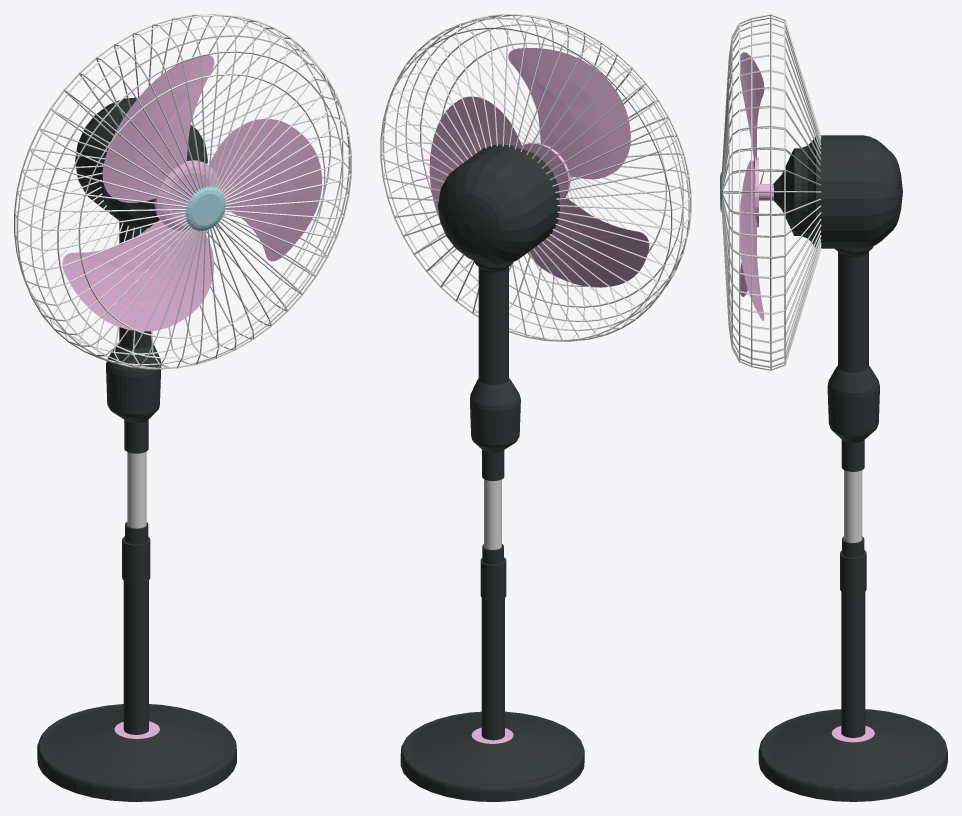
File: SM_fanV2.fbx
The picture shows the model from 3 angles, left to right: view 1: azimuth 30°, elevation 25°; view 2: azimuth 150°, elevation 25°; view 3: azimuth 270°, elevation 25°; orthographic projection. The views are drawn at different scales.
Parts seen in each view (by area): view 1: Mesh, Blades, Stem, Base; view 2: Stem, Mesh, Blades, Base; view 3: Stem, Base, Mesh, Blades.
Boxes of the visible parts, <box> form: Mesh: <box>14,14,351,369</box>; Blades: <box>62,55,322,331</box>; Stem: <box>75,97,207,734</box>; Base: <box>37,704,236,801</box>; Stem: <box>438,144,560,740</box>; Mesh: <box>380,14,691,341</box>; Blades: <box>429,48,649,287</box>; Base: <box>400,711,584,801</box>; Stem: <box>773,135,902,737</box>; Base: <box>758,709,947,801</box>; Mesh: <box>720,14,821,370</box>; Blades: <box>740,52,773,320</box>.
Bounding box in the file's own units: 45 × 102 × 28.75.
